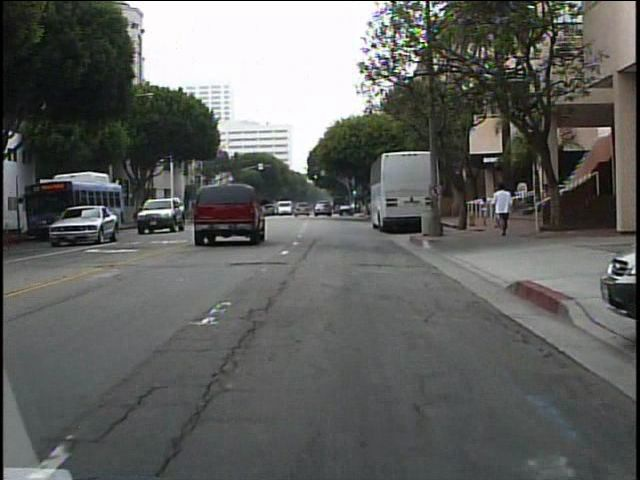person: (494, 179, 519, 239), (536, 180, 554, 234), (479, 195, 492, 228)
